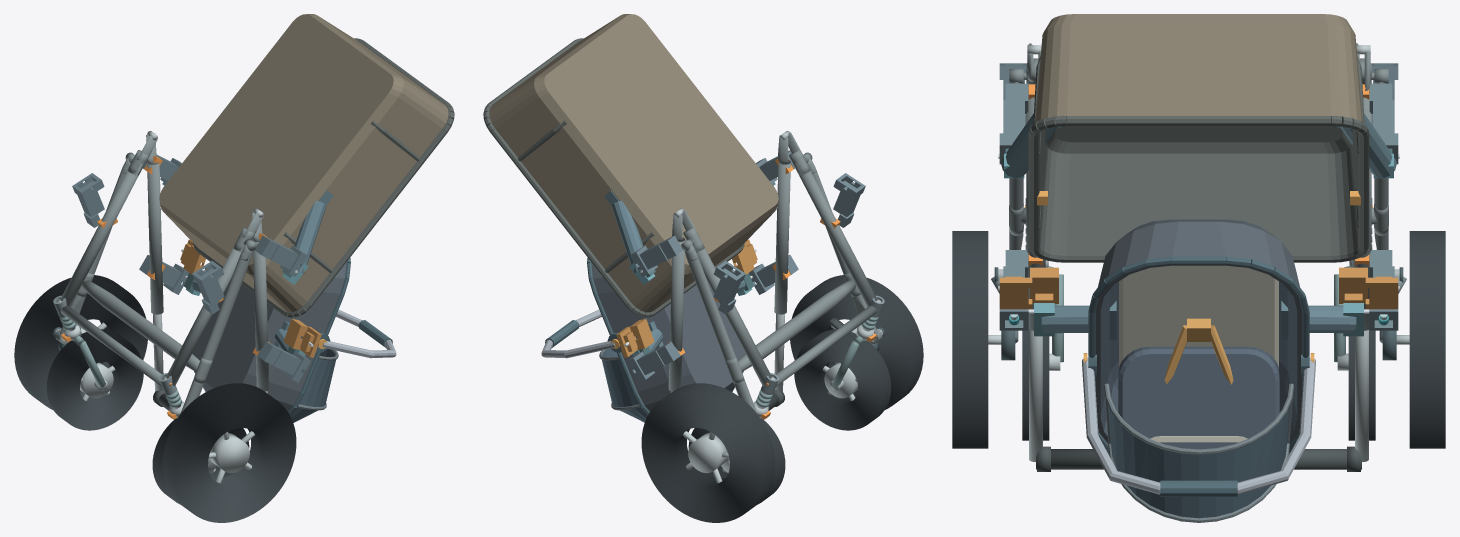
File: D19_w650_state3_wheel_L.glb
3 renders of one model, left to right at view 1: azimuth 30°, elevation 25°; view 2: azimuth 150°, elevation 25°; view 3: azimuth 270°, elevation 25°, orthographic. The views are drawn at different scales.
Parts seen in each view (by area): view 1: D19_Lower, RL_tire.008, D19_Upper, FR_tire.008, RR_tire.008, V46_rearbar.009, main_lower_1.009, main_upper_1.009, V46_rear_leg_-1.009, main_upper_-1.009, main_lower_-1.009, front_fixed_round_tube.008 (+13 smaller); view 2: D19_Lower, RR_tire.008, D19_Upper, FL_tire.008, RL_tire.008, V46_rearbar.009, main_lower_-1.009, main_upper_-1.009, V46_rear_leg_1.009, main_upper_1.009, main_lower_1.009, front_fixed_round_tube.008 (+13 smaller); view 3: D19_Lower, D19_Upper, RL_tire.008, RR_tire.008, D19_Upper_Mount_H, D19_Lower_Mount_M, D02_WideAdapter_H_-1, D02_WideAdapter_H_1, round_handle.008, handle_slider_1.008, handle_slider_-1.008, FL_tire.008 (+9 smaller).
Boxes of the visible parts, x1,y1,x2,y2 form: D19_Lower: (159,14,454,317); RL_tire.008: (162,383,296,522); D19_Upper: (192,258,396,422); FR_tire.008: (46,329,143,430); RR_tire.008: (14,275,147,409); V46_rearbar.009: (81,280,199,371); main_lower_1.009: (60,163,142,306); main_upper_1.009: (147,162,163,314); V46_rear_leg_-1.009: (180,250,252,413); main_upper_-1.009: (252,239,269,391); main_lower_-1.009: (166,246,244,386); front_fixed_round_tube.008: (60,305,161,386); D19_Lower: (483,14,778,317); RR_tire.008: (641,383,775,522); D19_Upper: (541,258,745,422); FL_tire.008: (794,329,891,430); RL_tire.008: (790,275,923,409); V46_rearbar.009: (738,280,856,371); main_lower_-1.009: (795,163,877,306); main_upper_-1.009: (774,161,790,314); V46_rear_leg_1.009: (685,250,757,413); main_upper_1.009: (668,239,685,391); main_lower_1.009: (693,246,771,386); front_fixed_round_tube.008: (776,305,877,386); D19_Lower: (1028,14,1369,262); D19_Upper: (1082,219,1315,522); RL_tire.008: (952,231,988,448); RR_tire.008: (1409,231,1445,448); D19_Upper_Mount_H: (1028,301,1369,339); D19_Lower_Mount_M: (998,113,1399,178); D02_WideAdapter_H_-1: (998,267,1058,309); D02_WideAdapter_H_1: (1339,267,1399,309); round_handle.008: (1036,449,1361,469); handle_slider_1.008: (1355,330,1368,461); handle_slider_-1.008: (1029,330,1042,461); FL_tire.008: (1022,330,1049,440).
Size of the model in its own units: 0.9232 by 1.04 by 0.8171.
